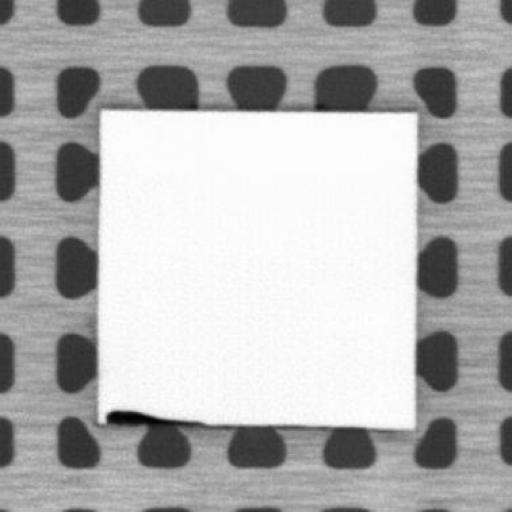DIE_BROKEN: (103, 405, 209, 427)
